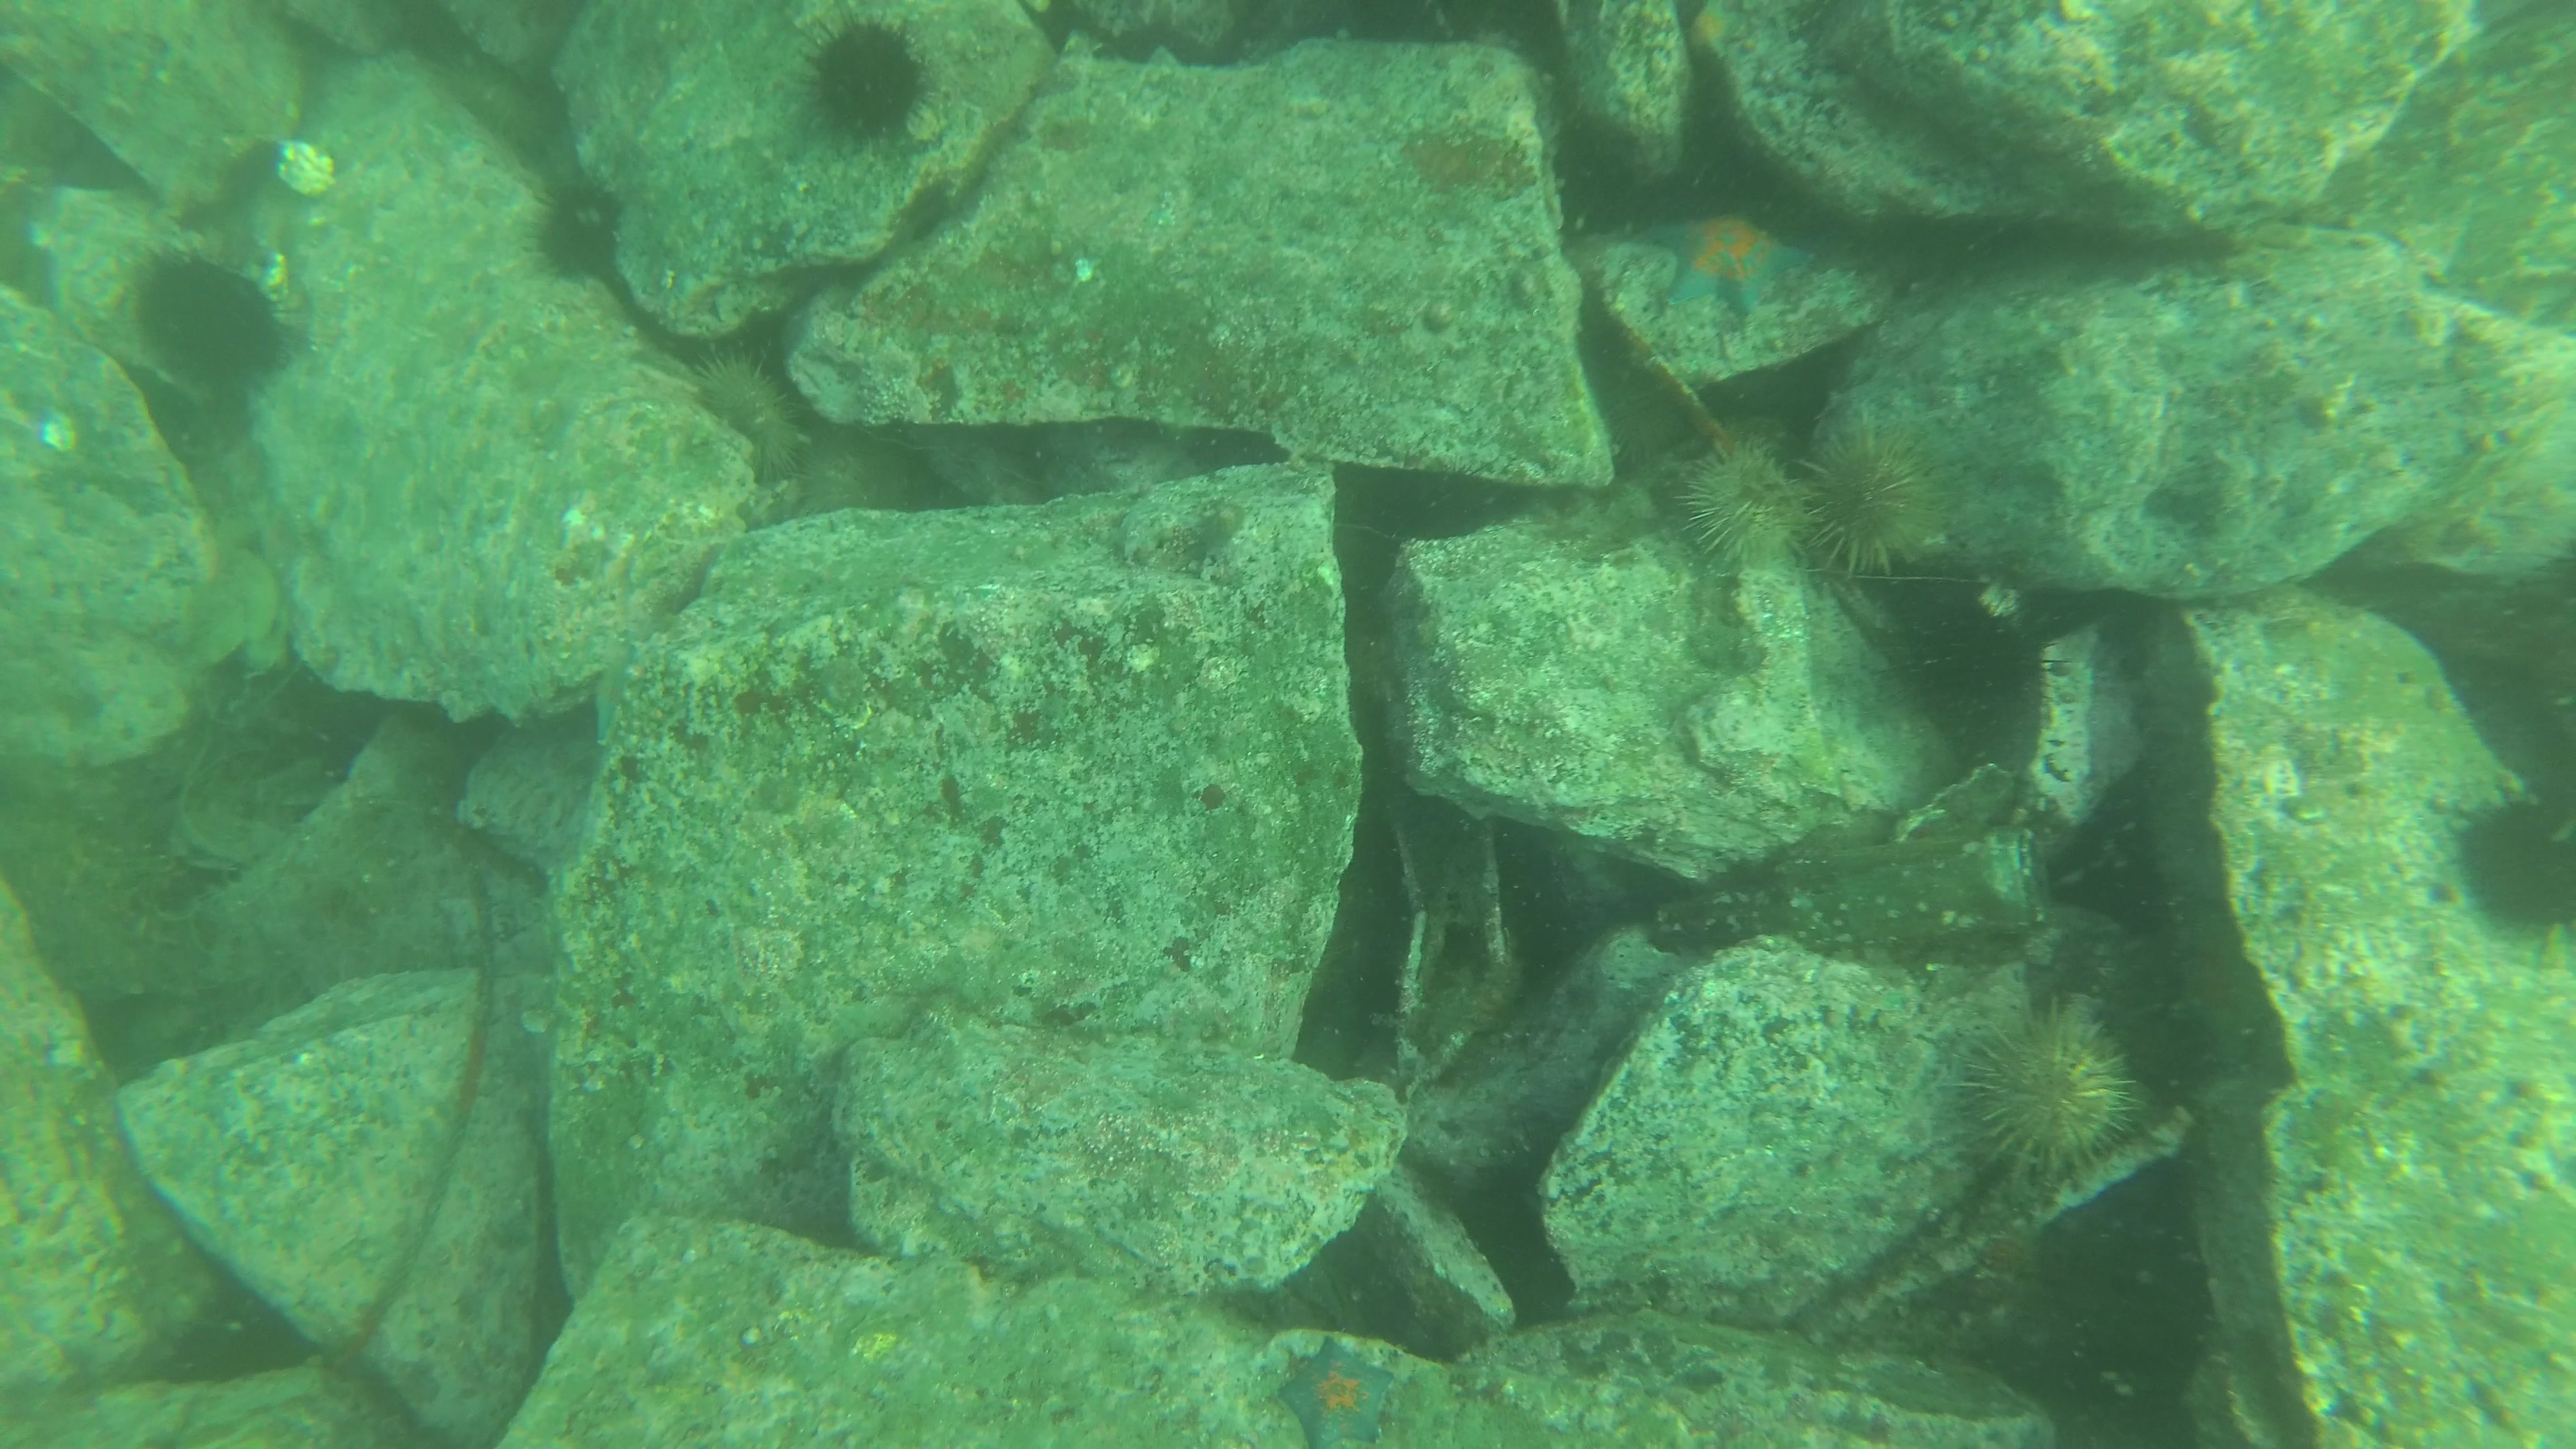echinus: (1966, 1016, 2139, 1185), (133, 239, 292, 396), (1815, 410, 1951, 591), (1665, 433, 1815, 566), (685, 345, 817, 465), (2468, 789, 2576, 932), (809, 19, 927, 131), (547, 179, 633, 280)
starfish: (1640, 195, 1819, 333), (1276, 1336, 1398, 1438), (1684, 0, 1748, 67)
